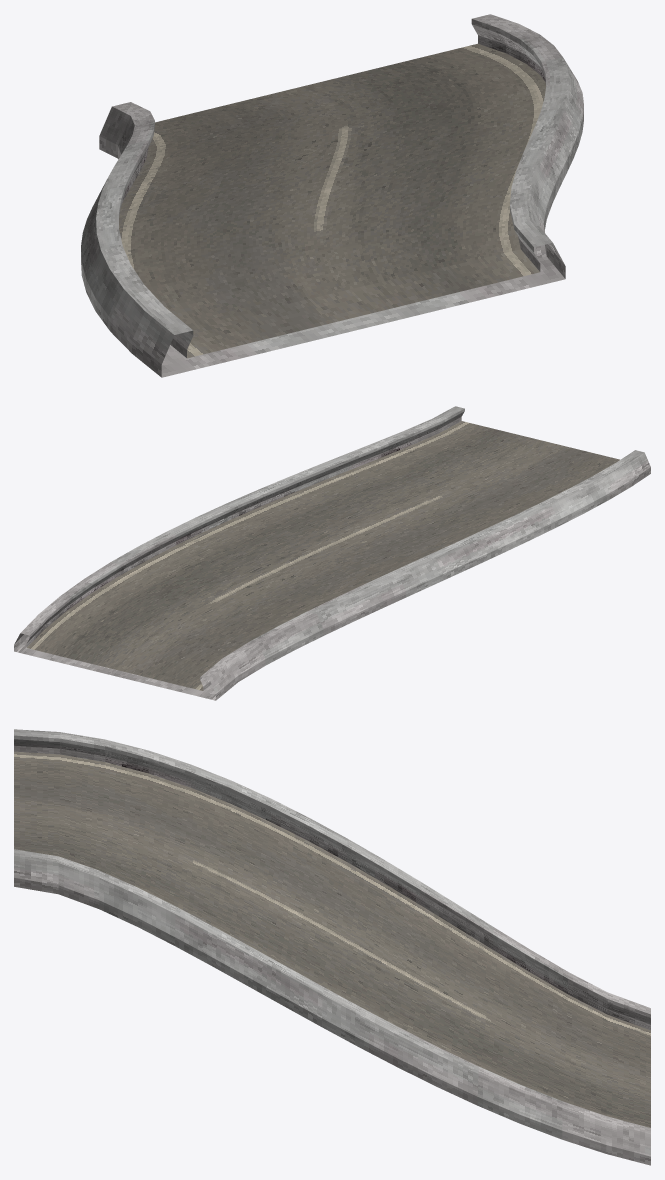
Rendered from road-Chicane-Flat-BiSlopeDown-Down2-Right1-Size2.glb.
The picture shows the model from 3 angles, top to bottom: view 1: azimuth 30°, elevation 25°; view 2: azimuth 150°, elevation 25°; view 3: azimuth 270°, elevation 25°; orthographic projection. The views are drawn at different scales.
Visible parts, largest first — view 1: road-Chicane-Flat-BiSlopeDown-Down2-Right1-Size2; view 2: road-Chicane-Flat-BiSlopeDown-Down2-Right1-Size2; view 3: road-Chicane-Flat-BiSlopeDown-Down2-Right1-Size2.
Part boxes in pixels (x1,y1,x2,y2): road-Chicane-Flat-BiSlopeDown-Down2-Right1-Size2: (81,14,583,377); road-Chicane-Flat-BiSlopeDown-Down2-Right1-Size2: (14,406,650,700); road-Chicane-Flat-BiSlopeDown-Down2-Right1-Size2: (14,729,650,1165).
Size of the model in its own units: 2 by 0.5938 by 2.
Materials: 2 (2 with a texture image).
